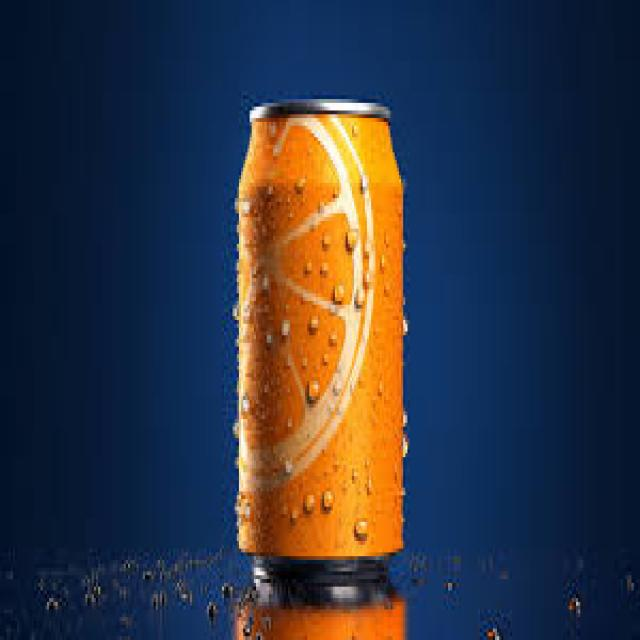Cans: (224, 84, 414, 579)
